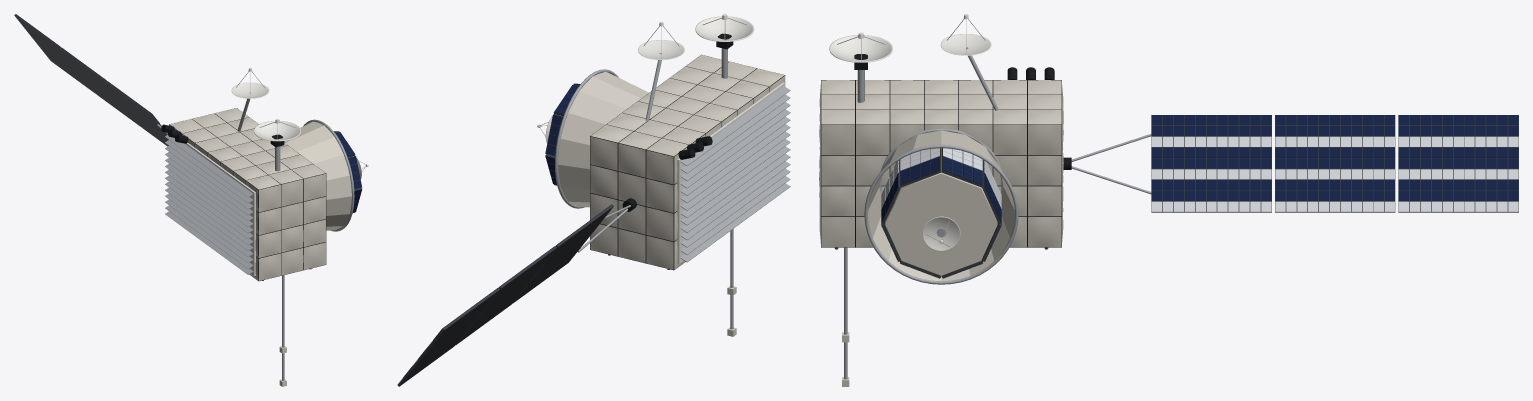
The model's file is bepicolombo.glb.
3 views of the same model, side by side, from view 1: azimuth 30°, elevation 25°; view 2: azimuth 150°, elevation 25°; view 3: azimuth 270°, elevation 25° (orthographic). The views are drawn at different scales.
Visible parts, largest first — view 1: bus, radiator, mosif-mio, solar-panel (×3), dish (×2), bepicolombo; view 2: bus, radiator, mosif-mio, solar-panel (×4), dish (×2), bepicolombo, yoke; view 3: solar-panel (×5), bus, mosif-mio, dish (×3), bepicolombo, yoke.
Boxes of the visible parts, <box> form: bus: <box>169,108,326,281</box>; radiator: <box>161,124,255,275</box>; mosif-mio: <box>284,119,354,231</box>; solar-panel (×3): <box>14,14,168,146</box>; dish (×2): <box>231,67,300,141</box>; bepicolombo: <box>237,92,311,386</box>; bus: <box>590,54,785,270</box>; radiator: <box>677,82,790,263</box>; mosif-mio: <box>555,69,648,208</box>; solar-panel (×4): <box>397,114,613,386</box>; dish (×2): <box>638,14,754,59</box>; bepicolombo: <box>608,33,736,336</box>; yoke: <box>577,198,636,252</box>; solar-panel (×5): <box>900,115,1518,212</box>; bus: <box>819,80,1063,247</box>; mosif-mio: <box>864,129,1018,284</box>; dish (×3): <box>829,14,991,251</box>; bepicolombo: <box>834,47,1048,386</box>; yoke: <box>1063,134,1151,194</box>.
Bounding box in the file's own units: 4.2 × 6.8 × 11.4.
